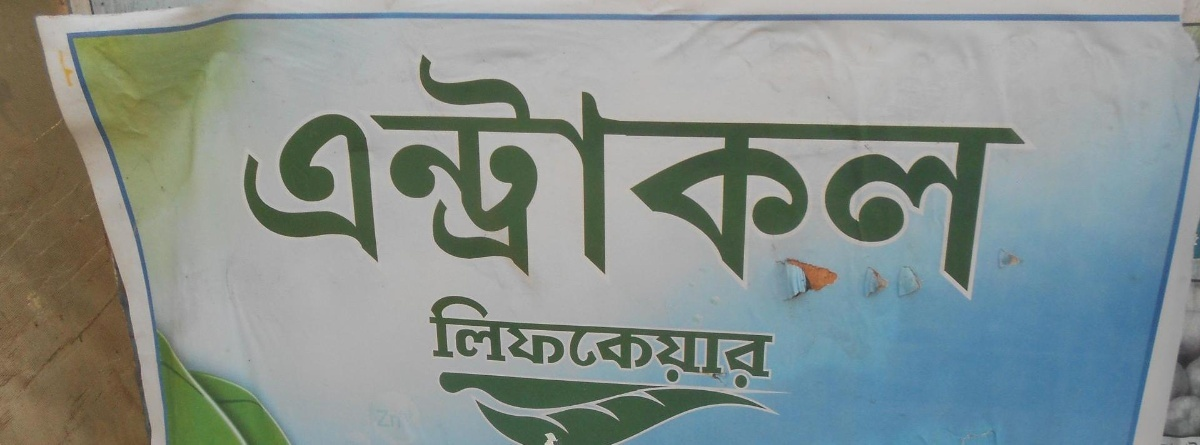text: (241, 52, 256, 302), (257, 52, 272, 302), (273, 52, 288, 302), (289, 52, 304, 302), (305, 52, 320, 302), (321, 52, 336, 302), (337, 52, 352, 302), (353, 52, 368, 302), (369, 52, 384, 302), (385, 52, 400, 302), (401, 52, 416, 302), (417, 52, 432, 302), (433, 52, 448, 302), (449, 52, 464, 302), (465, 52, 480, 302), (481, 52, 496, 302), (497, 52, 512, 302), (513, 52, 528, 302), (529, 52, 544, 302), (545, 52, 560, 302), (561, 52, 576, 302), (577, 52, 592, 302), (593, 52, 608, 302), (609, 52, 624, 302), (625, 52, 640, 302), (641, 52, 656, 302), (657, 52, 672, 302), (673, 52, 688, 302), (689, 52, 704, 302), (705, 52, 720, 302), (721, 52, 736, 302), (737, 52, 752, 302), (753, 52, 768, 302), (769, 52, 784, 302), (785, 52, 800, 302), (801, 52, 816, 302), (817, 52, 832, 302), (833, 52, 848, 302), (849, 52, 864, 302), (865, 52, 880, 302), (881, 52, 896, 302), (897, 52, 912, 302), (913, 52, 928, 302), (929, 52, 944, 302), (945, 52, 960, 302), (961, 52, 976, 302), (977, 52, 992, 302), (993, 52, 1008, 302), (1009, 52, 1024, 302), (433, 292, 448, 395), (449, 292, 464, 395), (465, 292, 480, 395), (481, 292, 496, 395), (497, 292, 512, 395), (513, 292, 528, 395), (529, 292, 544, 395), (545, 292, 560, 395), (561, 292, 576, 395), (577, 292, 592, 395), (593, 292, 608, 395), (609, 292, 624, 395), (625, 292, 640, 395), (641, 292, 656, 395), (657, 292, 672, 395), (673, 292, 688, 395), (689, 292, 704, 395), (705, 292, 720, 395), (721, 292, 736, 395), (737, 292, 752, 395), (753, 292, 768, 395), (1025, 52, 1030, 302), (769, 292, 777, 395), (426, 292, 432, 395), (239, 52, 240, 302)
